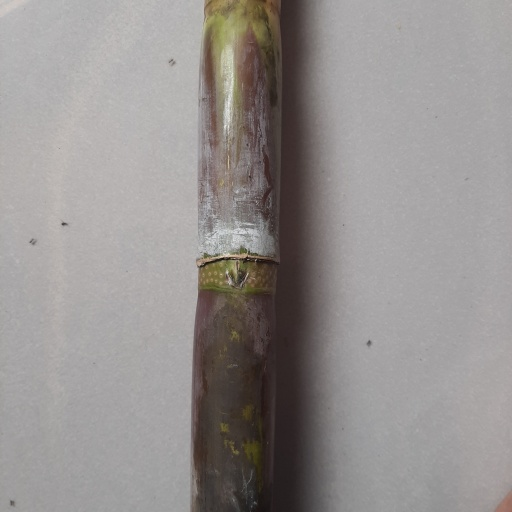Bud: (224, 259, 249, 287)
